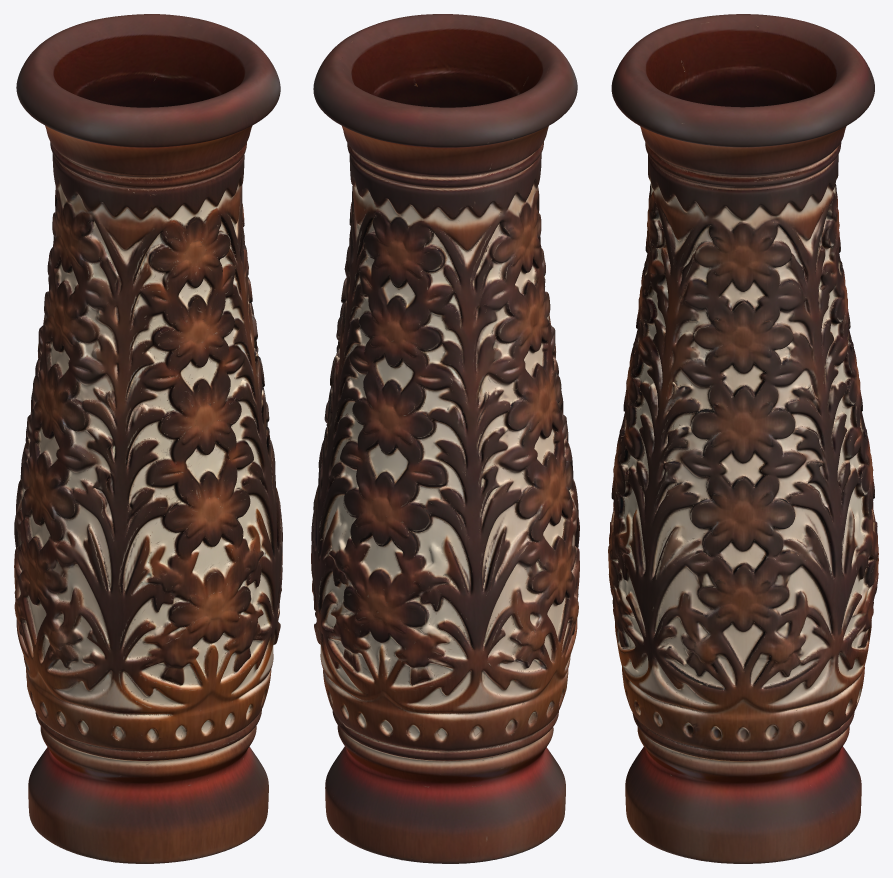
The model's file is vase.glb.
3 renders of one model, left to right at view 1: azimuth 30°, elevation 25°; view 2: azimuth 150°, elevation 25°; view 3: azimuth 270°, elevation 25°, orthographic.
Bounding box in the file's own units: 0.6491 × 2 × 0.6511.
1 material, 1 textured.
